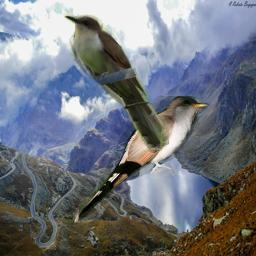Cuckoo: (73, 96, 211, 223), (63, 12, 169, 151)
